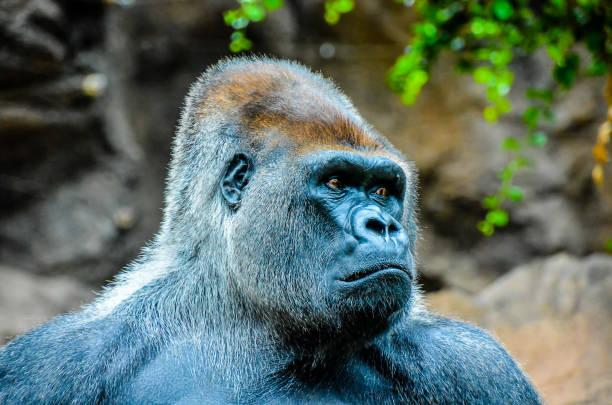gorille_Autres: (20, 43, 539, 405)
